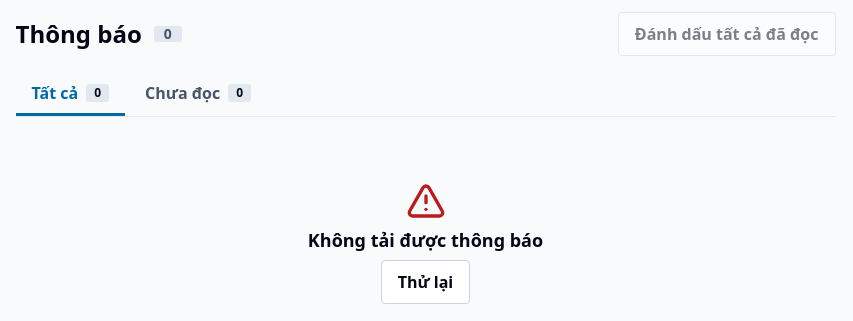
Test: Notifications page states › error state with retry
Expected: the message shows "Không tải được thông báo", [308, 228, 543, 252]
Click the button "Thử lại".
click(425, 282)  # box [381, 260, 470, 304]
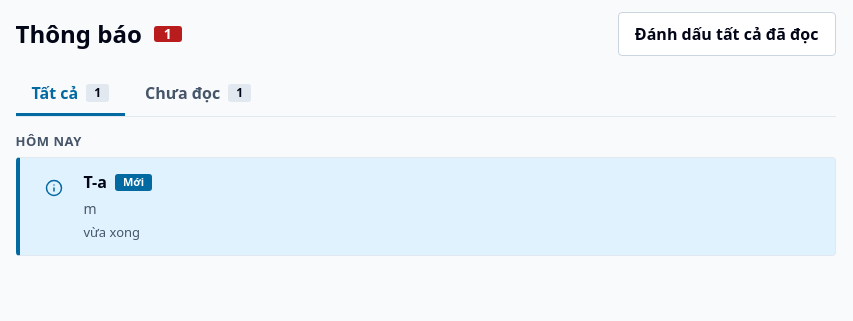
Now the text "T-a" is shown, box [84, 170, 107, 194]
